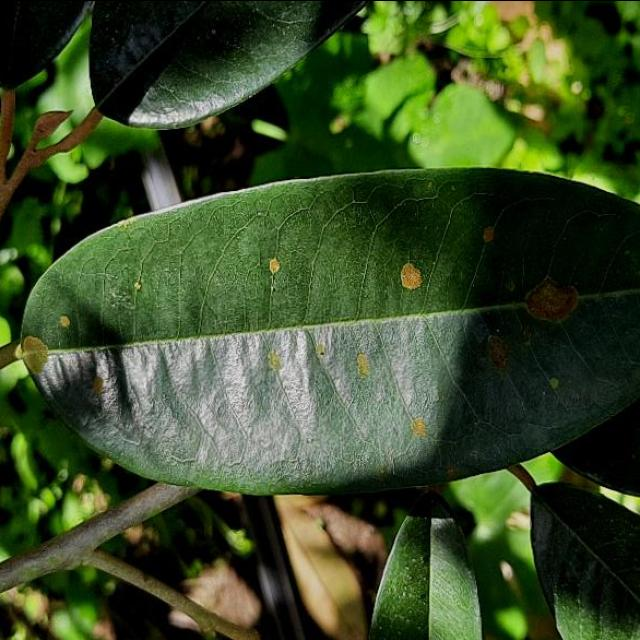Algal Leaf Spot: (12, 154, 640, 508)
